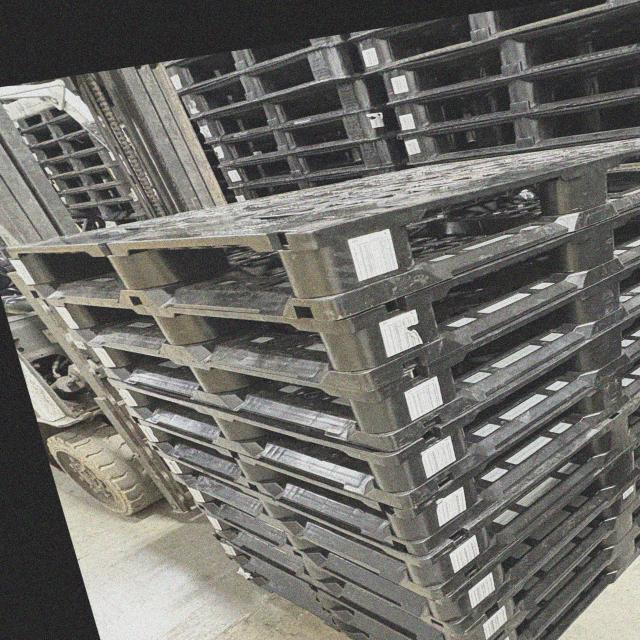igps: (0, 122, 640, 328), (27, 254, 640, 464), (15, 201, 640, 404), (91, 304, 640, 523), (131, 353, 640, 573), (175, 398, 640, 609), (194, 441, 640, 640), (351, 0, 640, 113), (372, 34, 640, 137), (343, 0, 640, 90), (384, 78, 640, 173), (470, 500, 639, 640), (184, 57, 387, 152), (170, 35, 360, 130), (157, 13, 353, 104), (225, 555, 428, 640), (487, 535, 640, 640), (198, 96, 398, 176), (210, 126, 408, 196), (220, 153, 406, 212), (23, 121, 108, 174), (33, 138, 125, 186), (46, 153, 132, 203), (10, 108, 95, 156), (56, 173, 142, 216), (61, 191, 150, 225), (10, 97, 74, 141), (65, 207, 144, 231)
